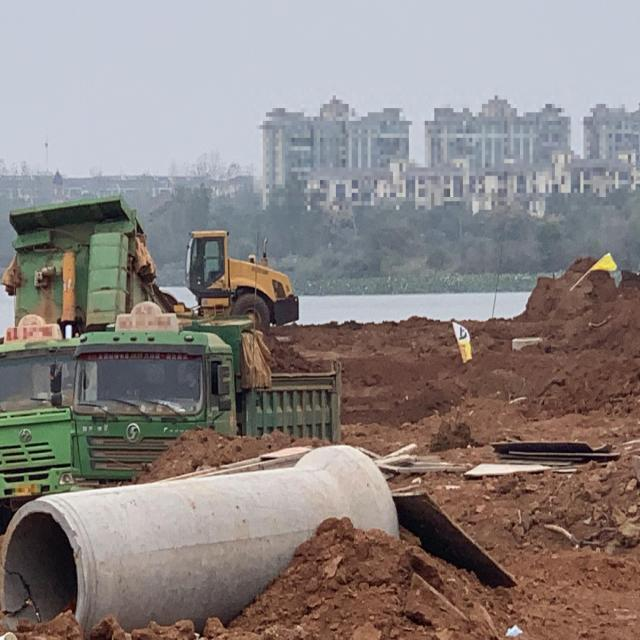truck: (0, 193, 174, 536), (49, 300, 341, 487)
